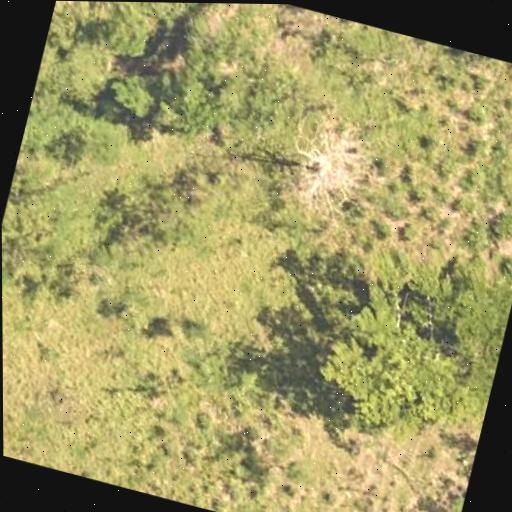tree-top: (314, 282, 489, 448), (158, 18, 266, 144), (422, 241, 512, 381), (270, 116, 382, 227), (1, 159, 87, 290), (238, 57, 322, 154), (142, 195, 225, 267), (18, 83, 86, 168), (41, 30, 114, 98), (92, 4, 157, 73), (102, 61, 169, 125), (78, 116, 134, 172), (163, 2, 229, 20)
